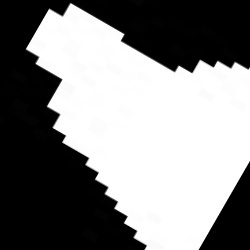spot: (26, 5, 248, 248)
